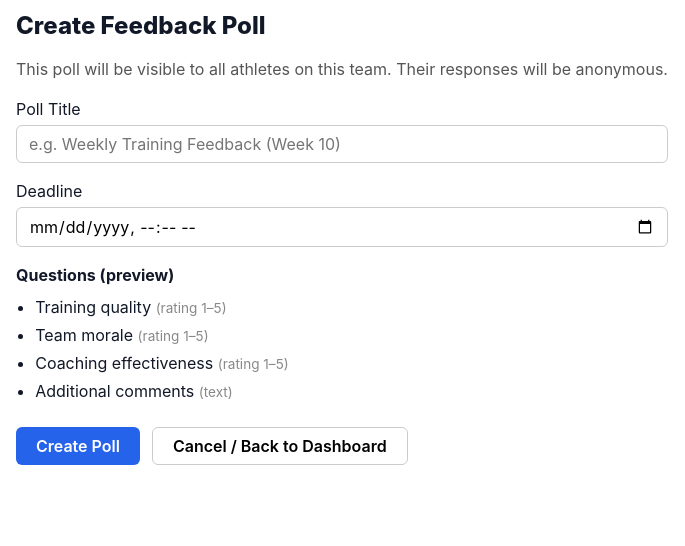
Test: CreateFeedbackPoll - coach creates a new poll › shows error if title is missing
This screenshot has width=685, height=546.
// 只设置 deadline，不填 title
Type "2025-11-30T12:00" into the field labelled "Deadline". click: (342, 227)
box: [16,207,668,247]
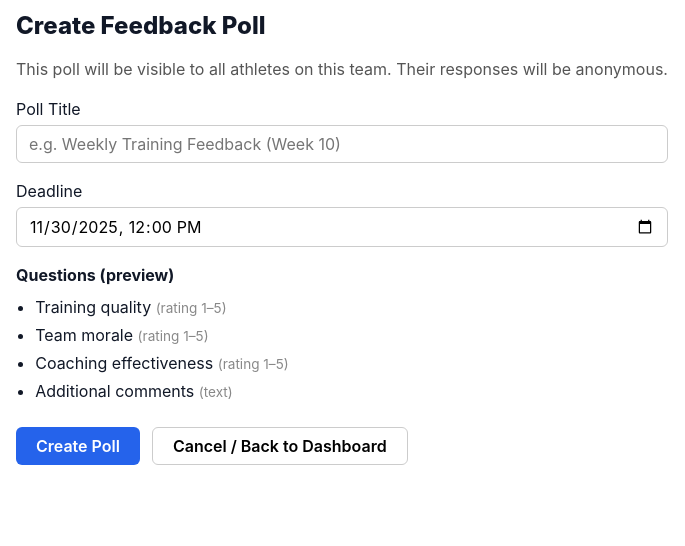
Click the button "Create Poll". click: (78, 446)
box: [16,427,140,465]
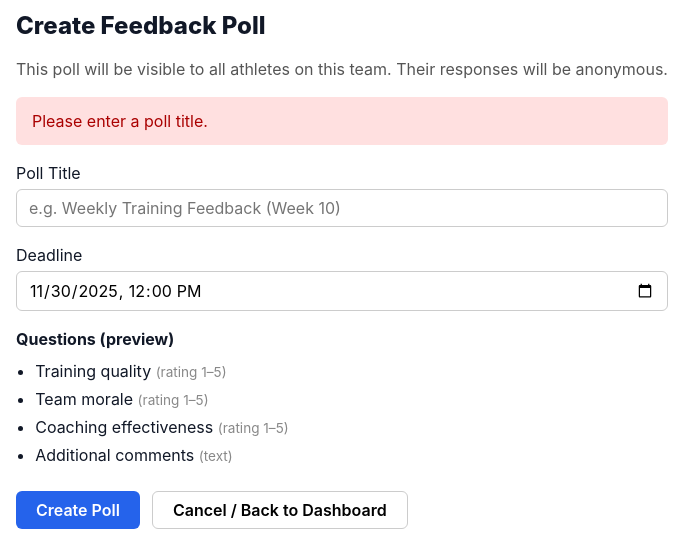
Expected: the text "Please enter a poll title." is shown, [16,97,668,145]
